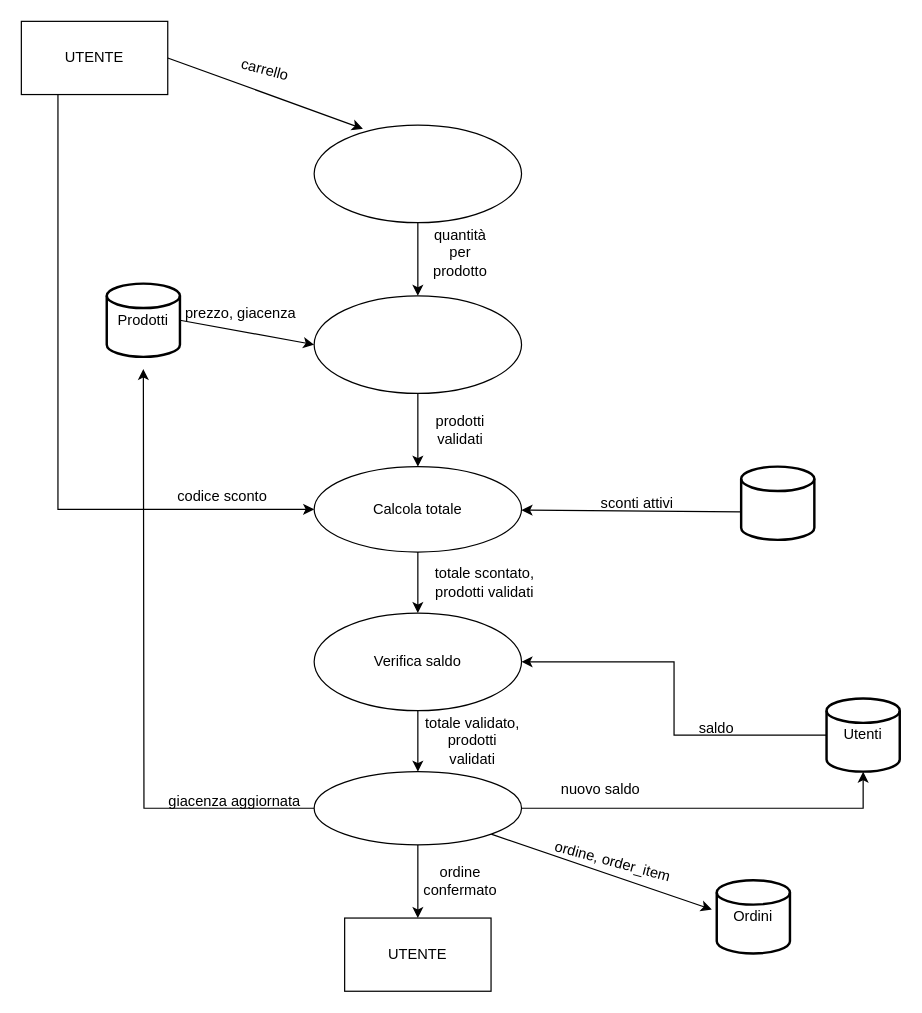
The diagram is 922 pixels wide and 1013 high, and some of its shapes have lost their labels. The shapes that lost their labels are listed below. From the top down, each one's centre as x and y in pixels, then its label:
At point (417, 173): "Aggrega carrello".
At point (417, 344): "Verifica prodotti".
At point (777, 502): "Sconti".
At point (417, 807): "Registra Ordine".
